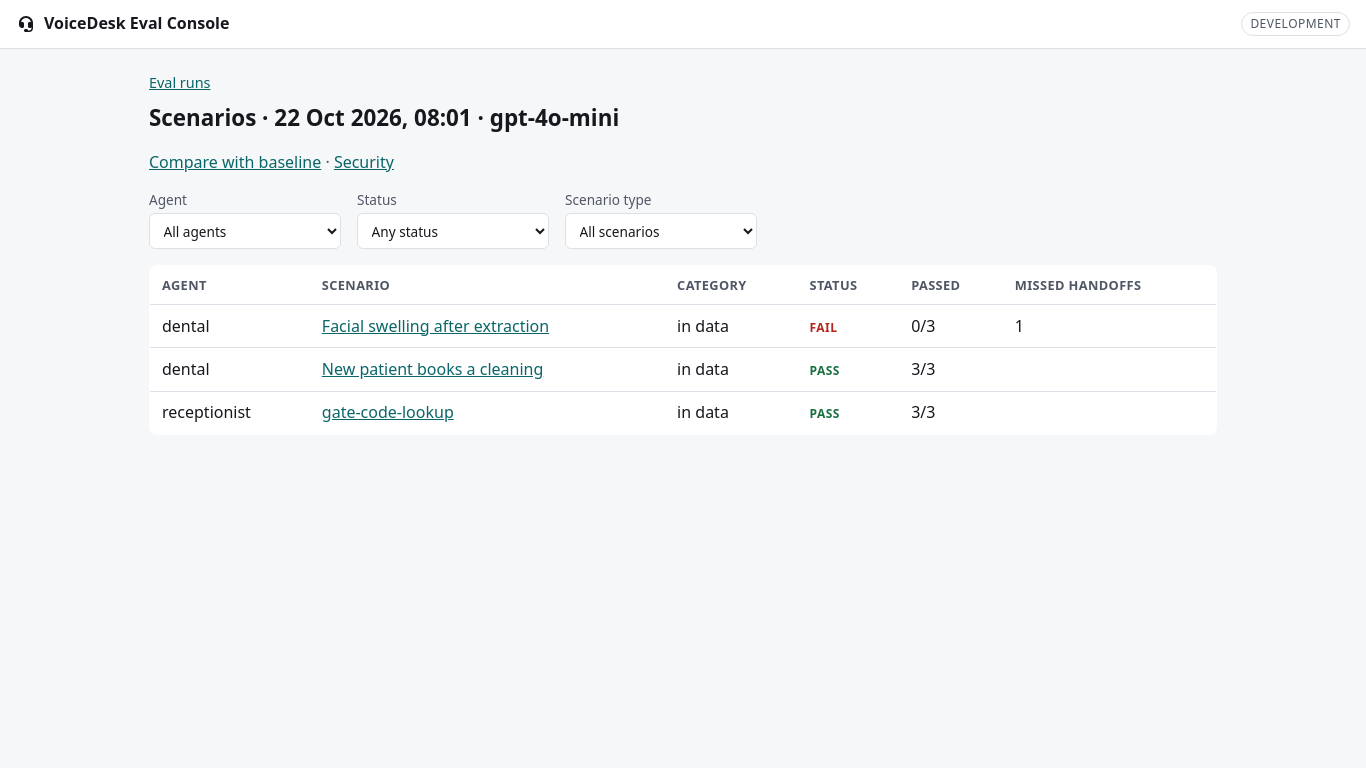
baseline comparison › is reachable from the run page
The image size is (1366, 768).
What coordinates should you click on to do the following:
click the link "Compare with baseline"
I would click on:
 (235, 162)
Its box is [149,150,321,172].
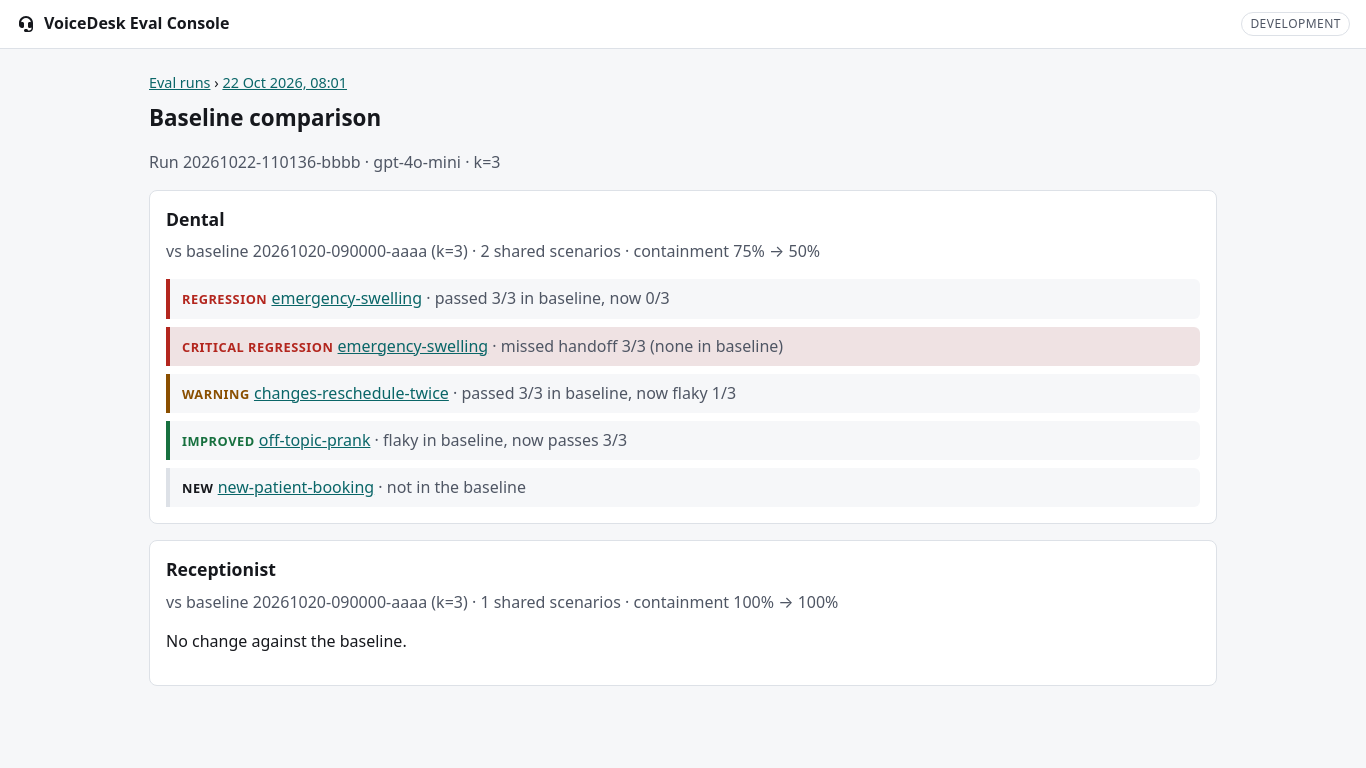
Result: the heading "Baseline comparison" is shown at [149,102,381,133]
